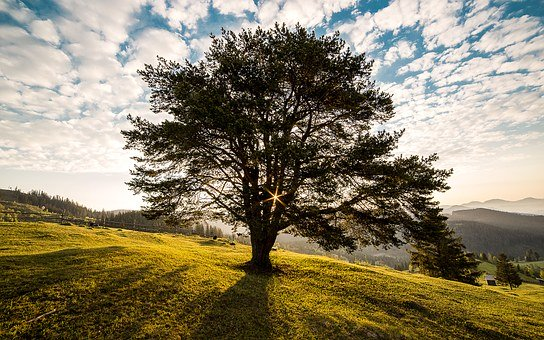field: (15, 219, 527, 340)
sky: (1, 1, 543, 201)
tree: (148, 28, 414, 261)
